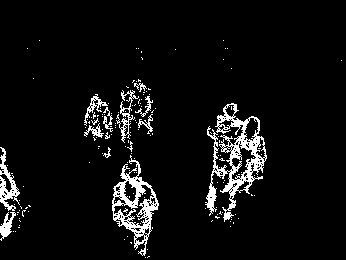person: (111, 160, 159, 256), (203, 100, 243, 212), (228, 116, 264, 216), (80, 95, 113, 159), (116, 85, 142, 150)
